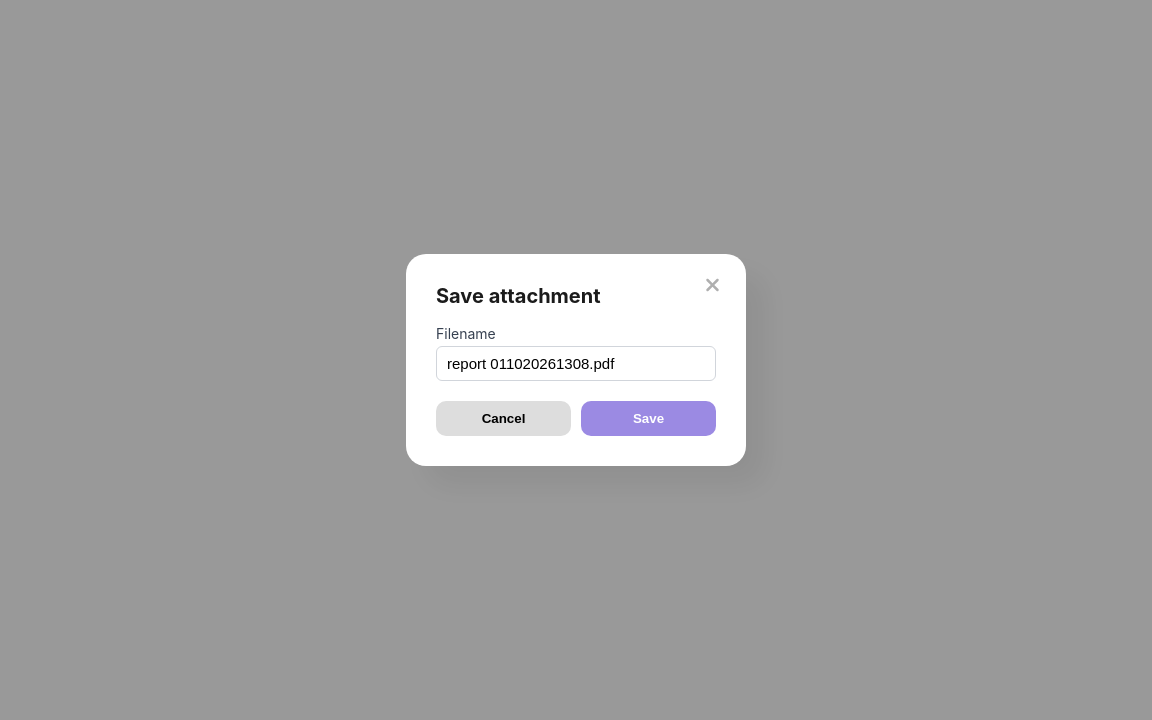
Test: S6: a failed save shows the exact failure toast and leaves the modal open (S8)
Replace the text in the field with test id "save-modal-filename-input" with "my-report.pdf" at (576, 364), box [436,346,716,381]
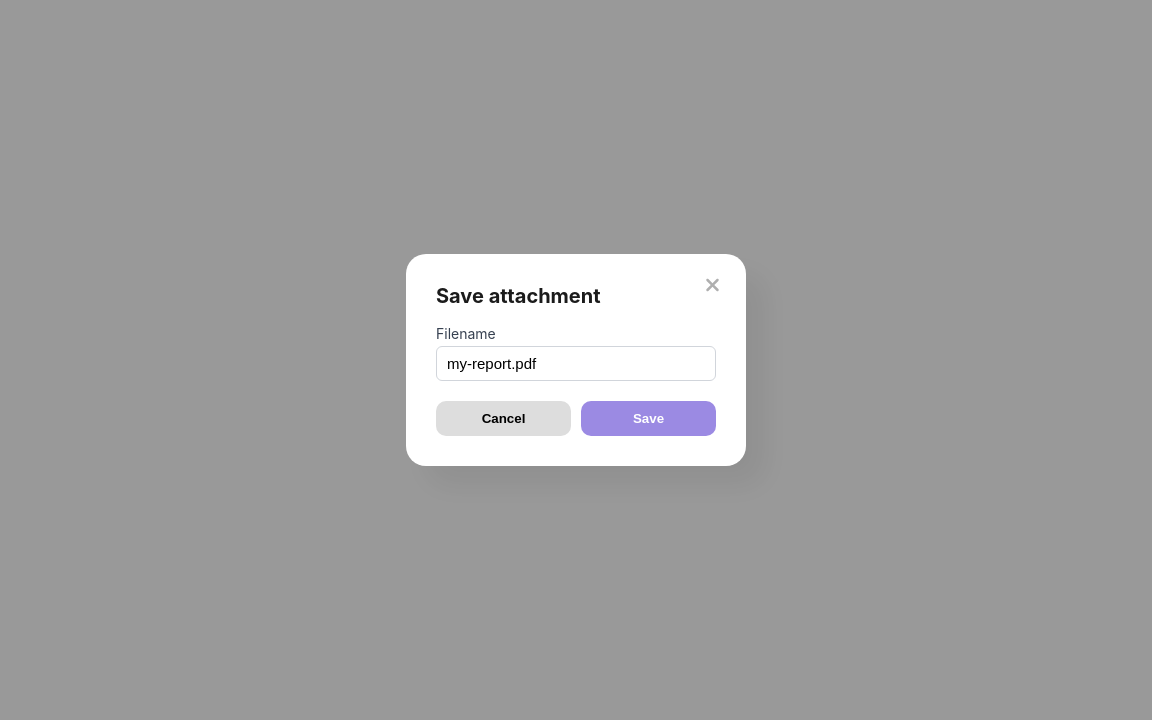
Click the button with test id "save-modal-confirm-button" at (648, 418), box [581,401,716,436]
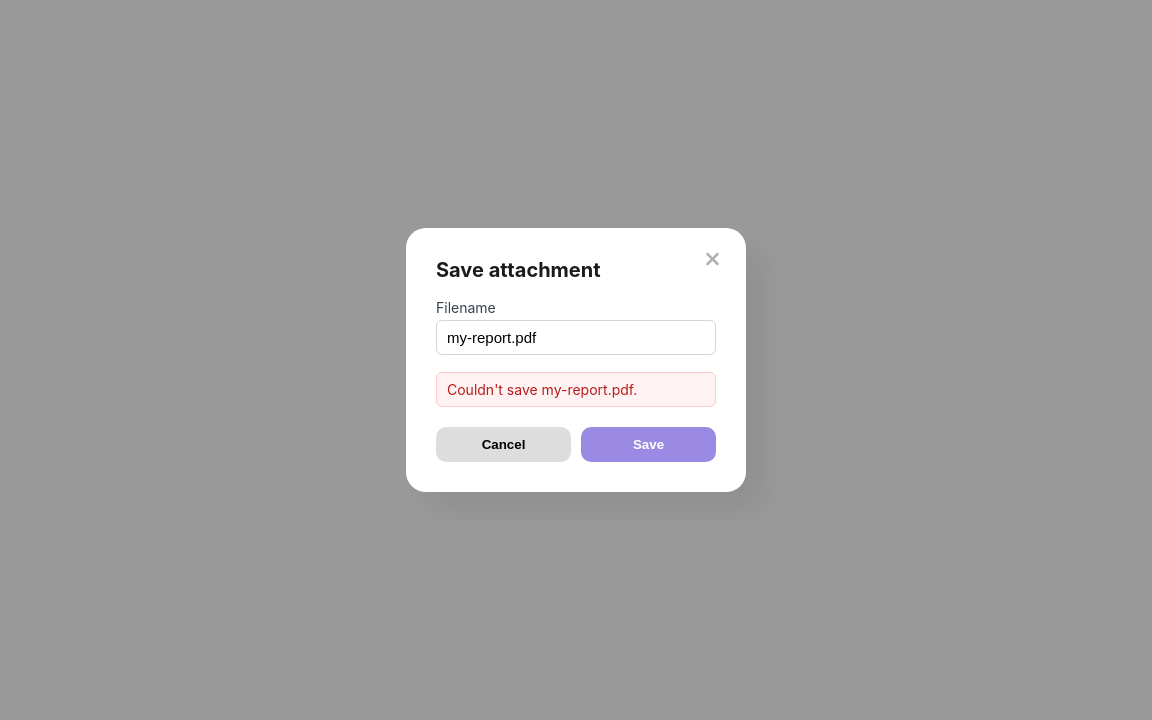
Expected: the message with test id "error-toast" reads "Couldn't save my-report.pdf.", [447,381,637,398]
